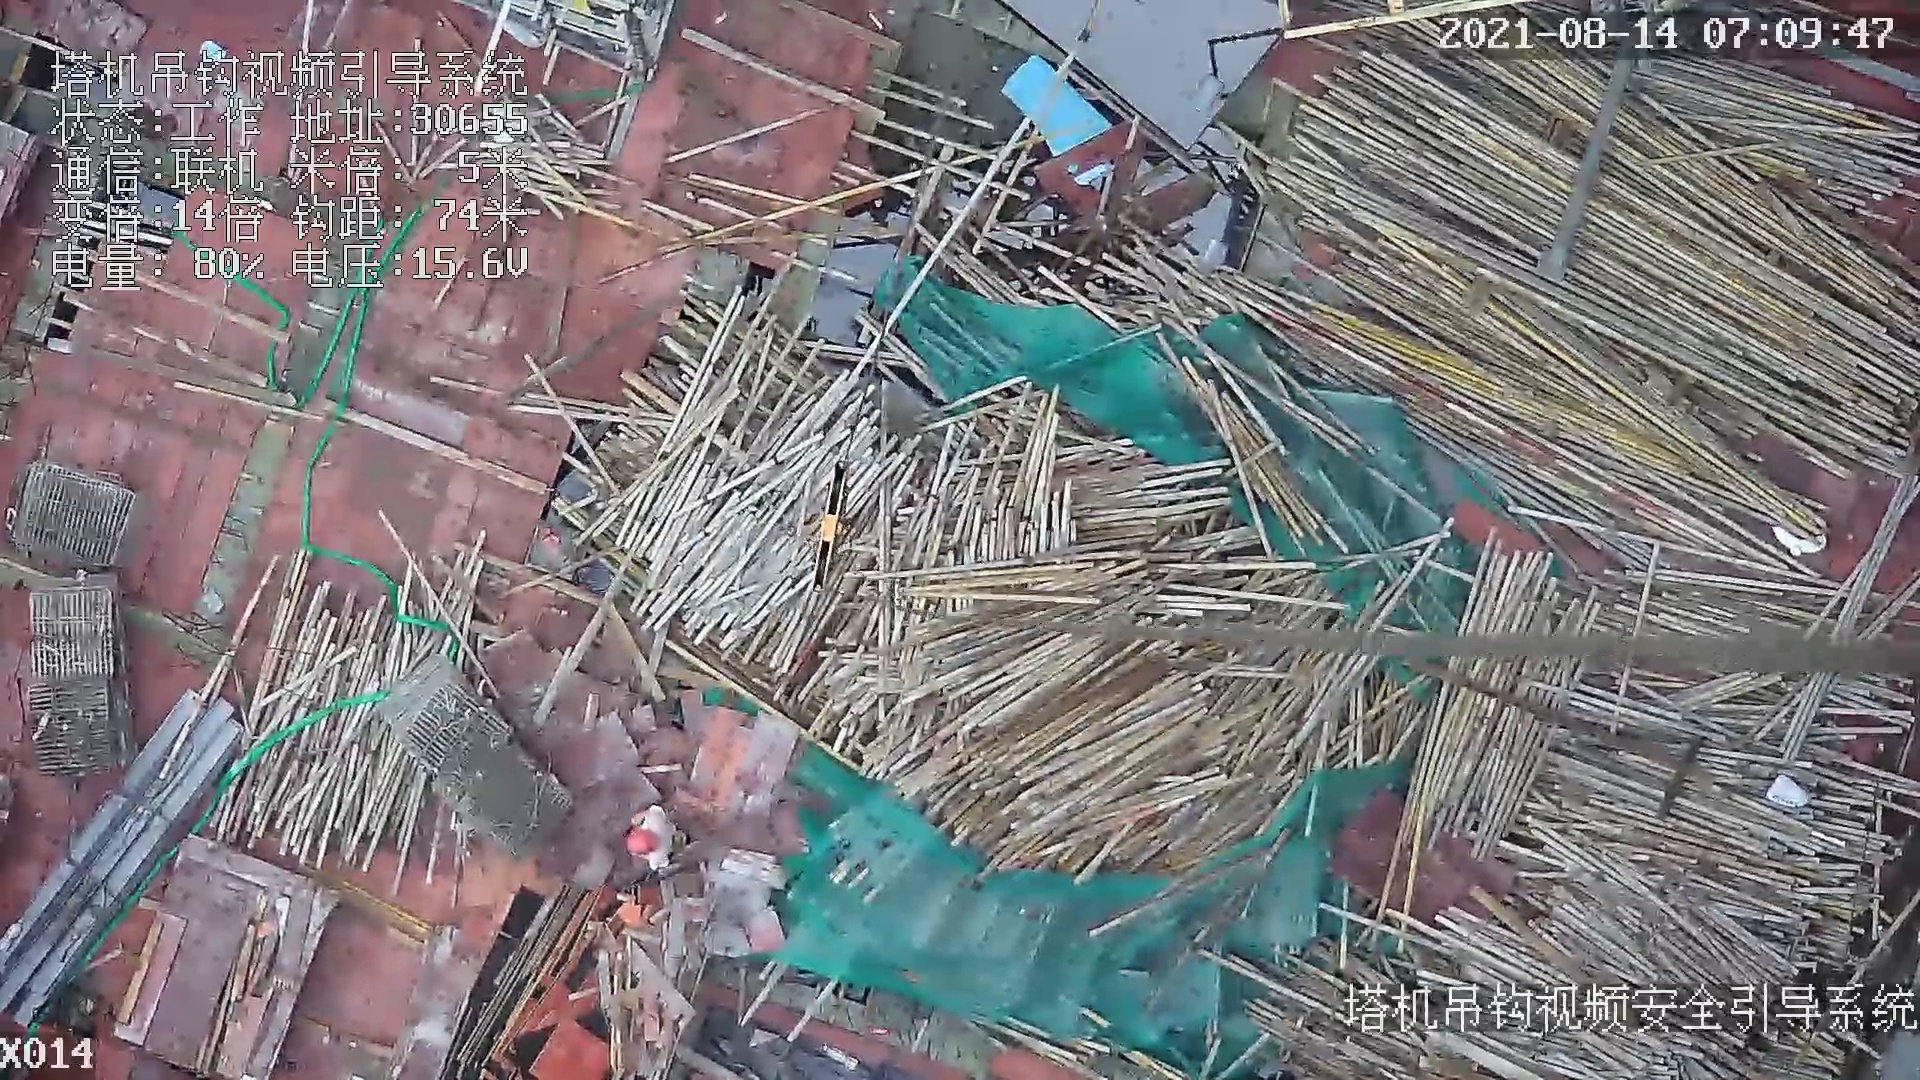helmet: (625, 829, 657, 857)
hook: (809, 455, 851, 592)
person: (626, 801, 687, 880)
